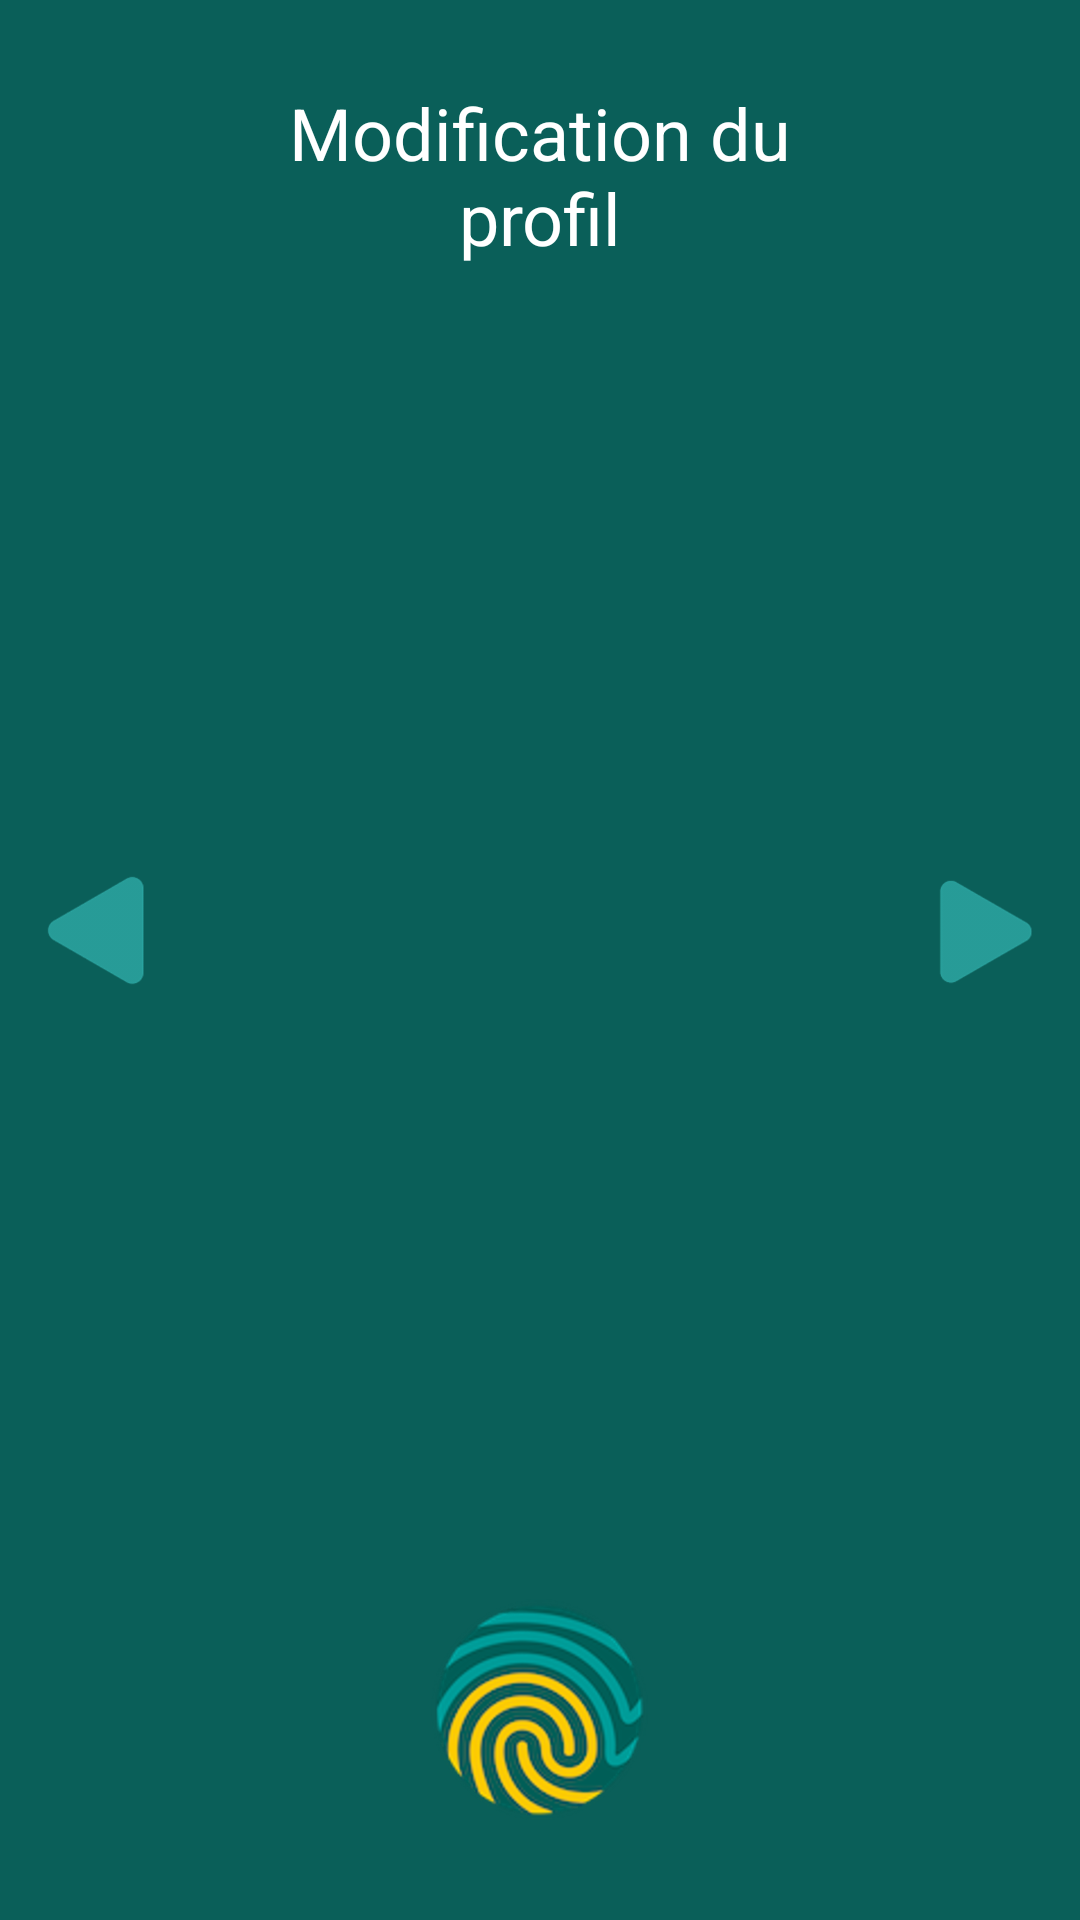

Point at icon controls on the screen. Image size 1080×1920, points as point (x, y).
empreinte: point (539, 1713)
